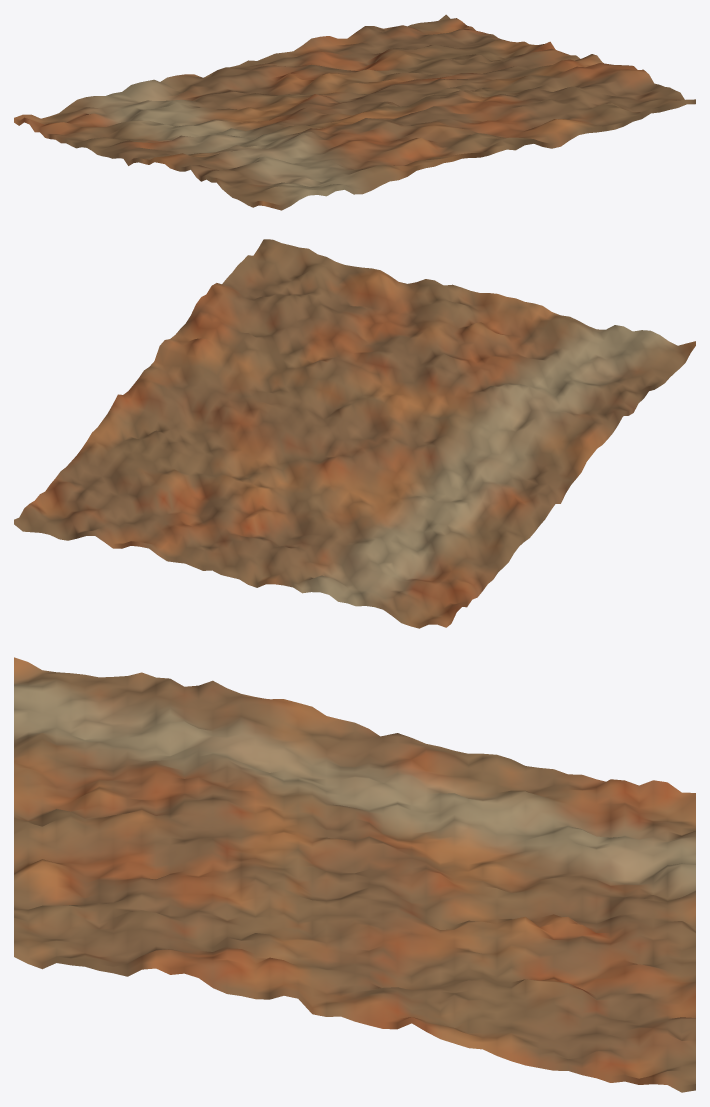
The model's file is terrain-137.glb.
3 views of the same model, one above another, from view 1: azimuth 30°, elevation 25°; view 2: azimuth 150°, elevation 25°; view 3: azimuth 270°, elevation 25° (orthographic). The views are drawn at different scales.
Visible parts, largest first — view 1: terrain-137; view 2: terrain-137; view 3: terrain-137.
Part boxes in pixels (x1=…): terrain-137: x1=14, y1=14, x2=695, y2=210; terrain-137: x1=14, y1=239, x2=695, y2=628; terrain-137: x1=14, y1=657, x2=695, y2=1092.
Size of the model in its own units: 384 by 94.63 by 384.
